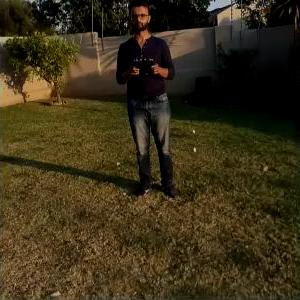follow: (114, 2, 184, 207)
